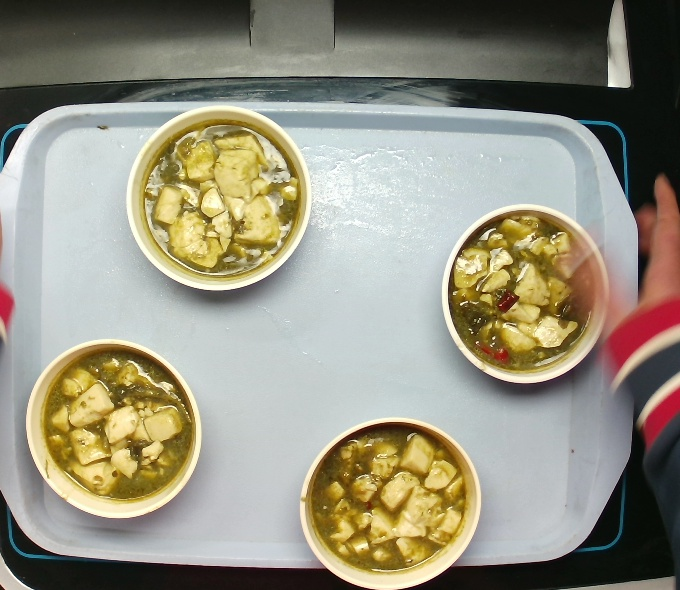wcq-SuanCaiDouFu: (141, 119, 301, 277), (306, 422, 469, 576), (447, 210, 595, 374), (40, 348, 194, 501)
